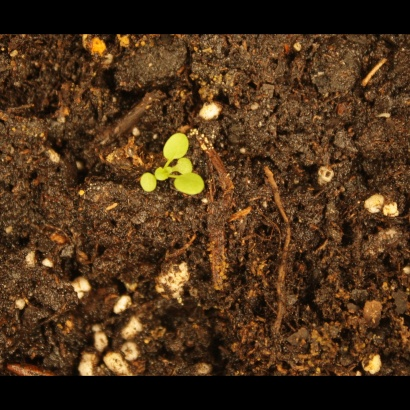leaf: (160, 128, 190, 164), (173, 171, 207, 197), (174, 155, 197, 178), (136, 173, 159, 196), (154, 162, 177, 185)
